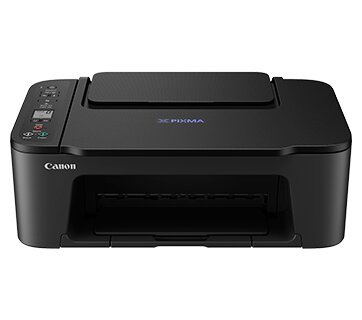printer: (9, 71, 349, 252)
